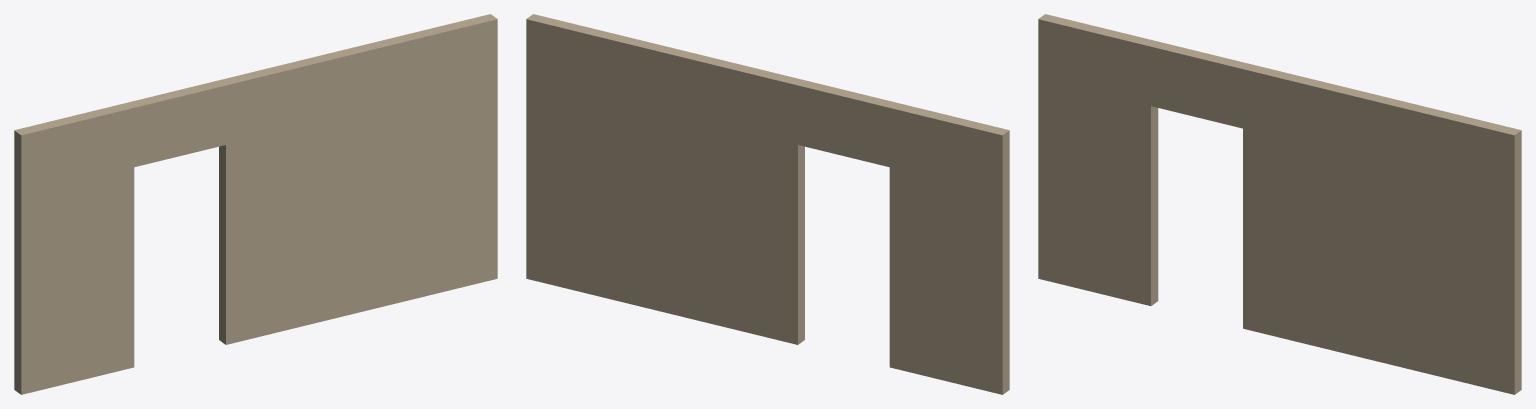
The model's file is door wall.FBX.
3 views of the same model, side by side, from view 1: azimuth 30°, elevation 25°; view 2: azimuth 150°, elevation 25°; view 3: azimuth 330°, elevation 25° (orthographic).
Visible parts, largest first — view 1: door wall; view 2: door wall; view 3: door wall.
Boxes of the visible parts, x1,y1,x2,y2 form: door wall: (14, 14, 497, 394); door wall: (526, 14, 1009, 394); door wall: (1038, 14, 1521, 394).
Bounding box in the file's own units: 249 × 6.4 × 130.
